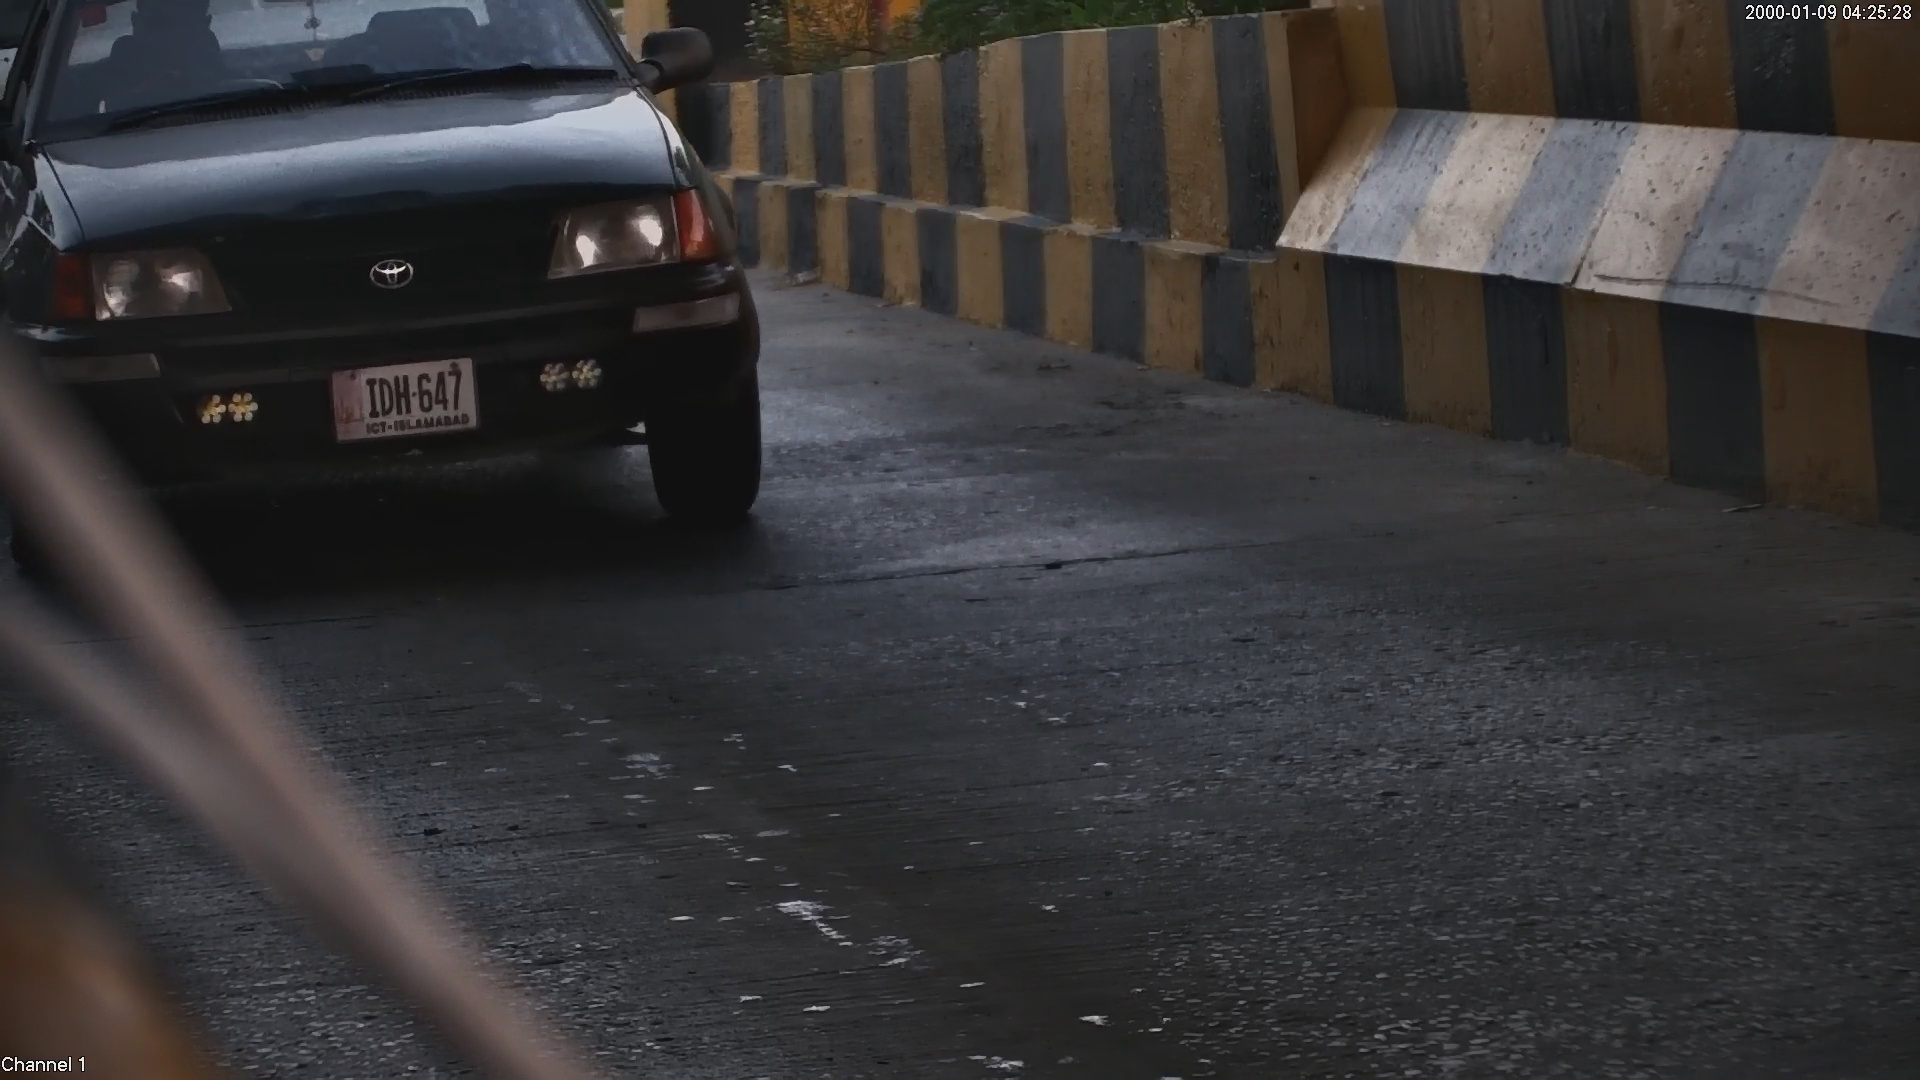Number_Plate: (326, 355, 487, 449)
